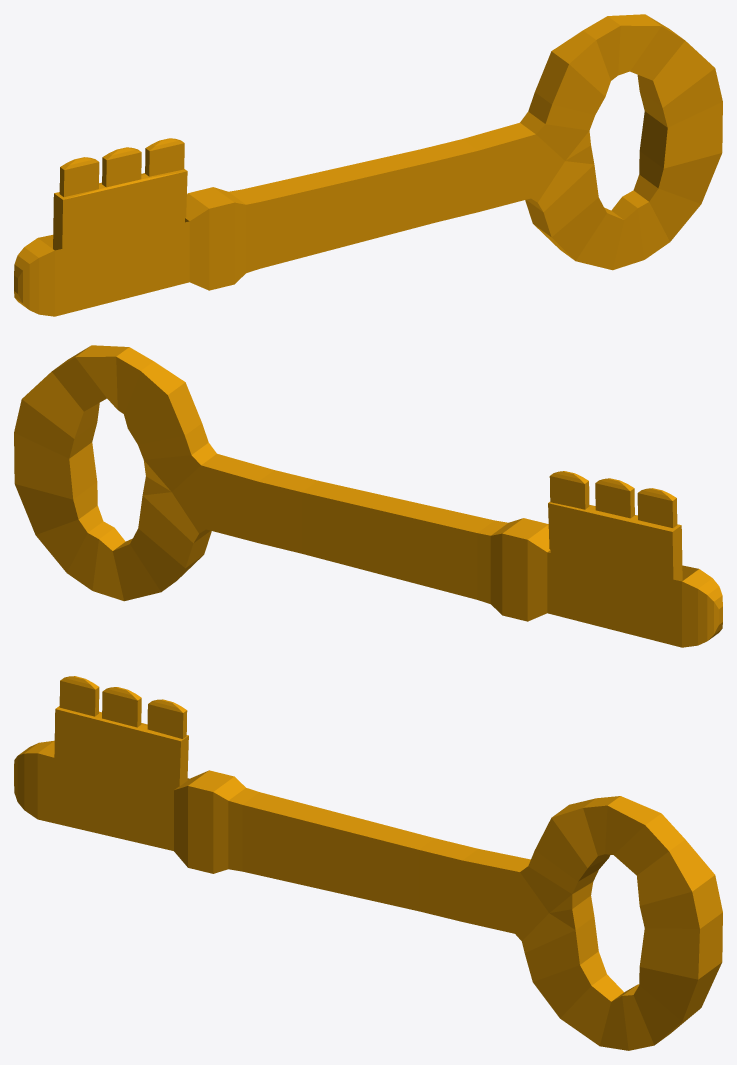
Rendered from Key.fbx.
3 renders of one model, top to bottom at view 1: azimuth 30°, elevation 25°; view 2: azimuth 150°, elevation 25°; view 3: azimuth 330°, elevation 25°, orthographic.
Visible parts, largest first — view 1: Cube; view 2: Cube; view 3: Cube.
Part boxes in pixels (box(x1,y1,x2,y2)): Cube: box(14, 14, 722, 316); Cube: box(14, 345, 722, 647); Cube: box(14, 676, 722, 1050).
Size of the model in its own units: 508 by 169 by 30.48.
